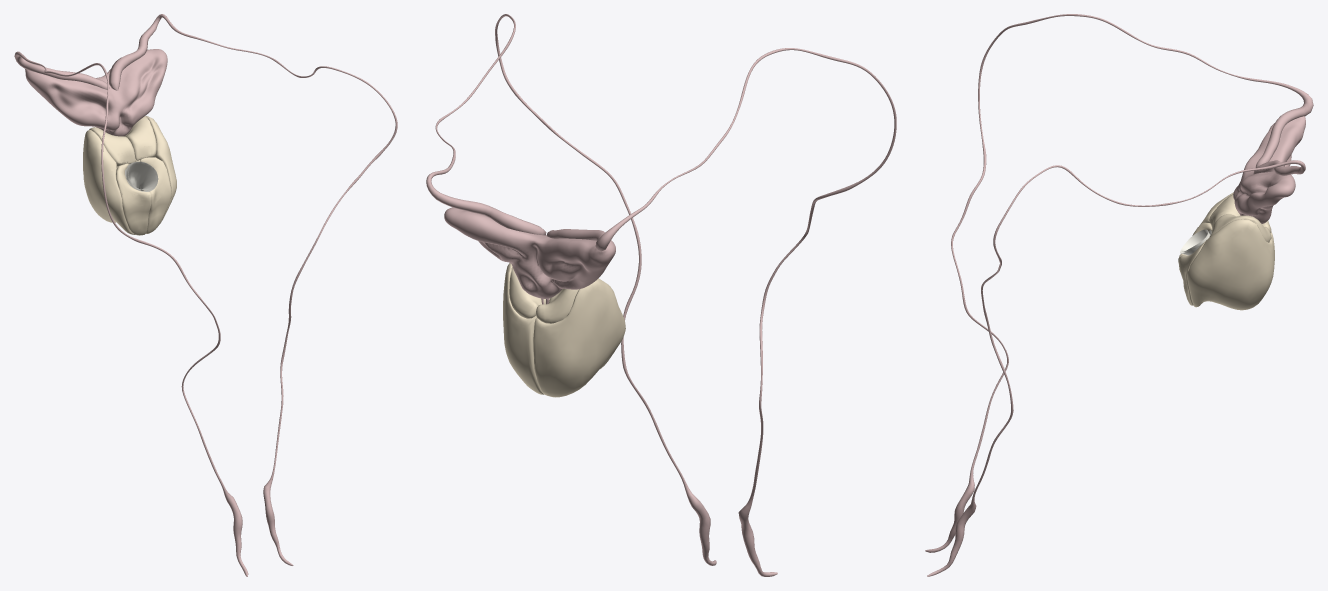
Rendered from VH_M_Prostate.fbx.
3 renders of one model, left to right at view 1: azimuth 30°, elevation 25°; view 2: azimuth 150°, elevation 25°; view 3: azimuth 270°, elevation 25°, orthographic. The views are drawn at different scales.
Parts seen in each view (by area): view 1: VH_M_seminal_vesicle, VH_M_vas_deferens_R, VH_M_vas_deferens_L, VH_M_peripheral_zone_of_prostate_R, VH_M_anterior_fibromuscular_stroma_R, VH_M_anterior_fibromuscular_stroma_L, VH_M_central_zone_of_prostate_L, VH_M_prostatic_urethra, VH_M_central_zone_of_prostate_R, VH_M_peripheral_zone_of_prostate_L, VH_M_base_of_prostate; view 2: VH_M_peripheral_zone_of_prostate_R, VH_M_seminal_vesicle, VH_M_vas_deferens_R, VH_M_vas_deferens_L, VH_M_peripheral_zone_of_prostate_L, VH_M_central_zone_of_prostate_R, VH_M_central_zone_of_prostate_L; view 3: VH_M_peripheral_zone_of_prostate_L, VH_M_vas_deferens_L, VH_M_seminal_vesicle, VH_M_vas_deferens_R, VH_M_central_zone_of_prostate_L.
Part boxes in pixels (x1=…): VH_M_seminal_vesicle: x1=25, y1=49, x2=167, y2=136; VH_M_vas_deferens_R: x1=109, y1=14, x2=397, y2=565; VH_M_vas_deferens_L: x1=14, y1=51, x2=248, y2=576; VH_M_peripheral_zone_of_prostate_R: x1=83, y1=130, x2=135, y2=234; VH_M_anterior_fibromuscular_stroma_R: x1=116, y1=163, x2=151, y2=235; VH_M_anterior_fibromuscular_stroma_L: x1=140, y1=157, x2=171, y2=233; VH_M_central_zone_of_prostate_L: x1=124, y1=116, x2=156, y2=160; VH_M_prostatic_urethra: x1=125, y1=161, x2=158, y2=191; VH_M_central_zone_of_prostate_R: x1=89, y1=127, x2=135, y2=166; VH_M_peripheral_zone_of_prostate_L: x1=146, y1=116, x2=176, y2=224; VH_M_base_of_prostate: x1=110, y1=146, x2=169, y2=205; VH_M_peripheral_zone_of_prostate_R: x1=533, y1=278, x2=625, y2=397; VH_M_seminal_vesicle: x1=444, y1=207, x2=615, y2=298; VH_M_vas_deferens_R: x1=426, y1=14, x2=716, y2=565; VH_M_vas_deferens_L: x1=546, y1=48, x2=896, y2=576; VH_M_peripheral_zone_of_prostate_L: x1=503, y1=263, x2=543, y2=394; VH_M_central_zone_of_prostate_R: x1=536, y1=288, x2=578, y2=323; VH_M_central_zone_of_prostate_L: x1=509, y1=267, x2=550, y2=318; VH_M_peripheral_zone_of_prostate_L: x1=1187, y1=219, x2=1274, y2=310; VH_M_vas_deferens_L: x1=925, y1=14, x2=1313, y2=552; VH_M_seminal_vesicle: x1=1233, y1=116, x2=1305, y2=223; VH_M_vas_deferens_R: x1=927, y1=160, x2=1305, y2=576; VH_M_central_zone_of_prostate_L: x1=1209, y1=214, x2=1271, y2=242.
Bounding box in the file's own units: 11.67 × 17.55 × 12.29.
